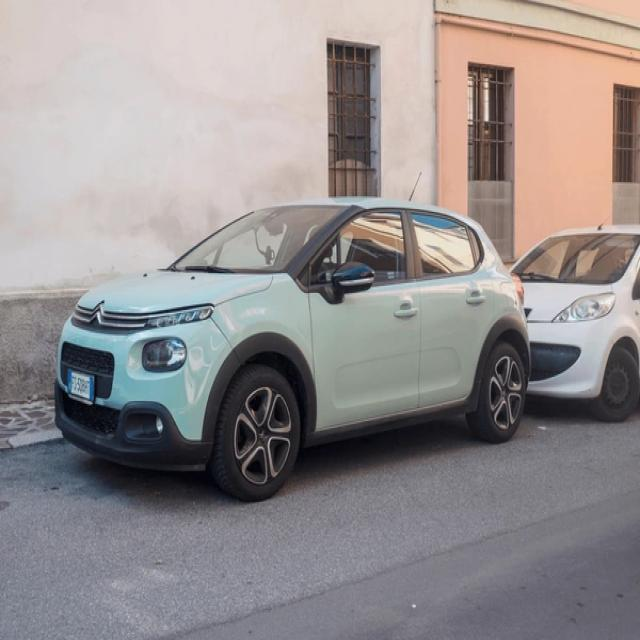citroen: (89, 300, 108, 326)
